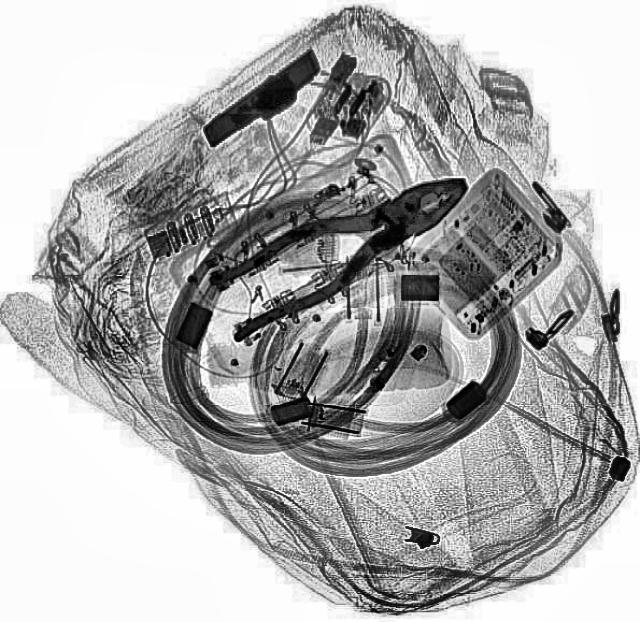Gun: (195, 47, 333, 155)
Pliers: (193, 144, 489, 348)
